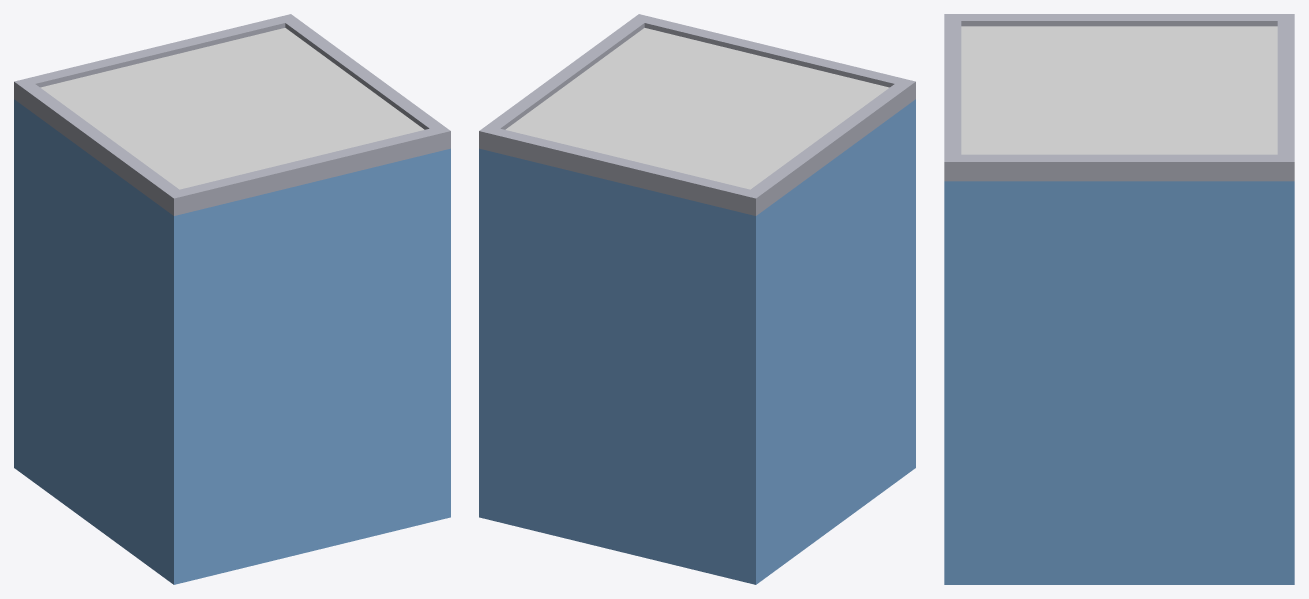
The model's file is SM_Building_30x40.fbx.
3 renders of one model, left to right at view 1: azimuth 30°, elevation 25°; view 2: azimuth 150°, elevation 25°; view 3: azimuth 270°, elevation 25°, orthographic. The views are drawn at different scales.
Visible parts, largest first — view 1: Building_30x40; view 2: Building_30x40; view 3: Building_30x40.
Part boxes in pixels (<box>): Building_30x40: <box>14,14,450,584</box>; Building_30x40: <box>479,14,915,584</box>; Building_30x40: <box>944,14,1294,584</box>.
Size of the model in its own units: 3000 by 4000 by 3000.
